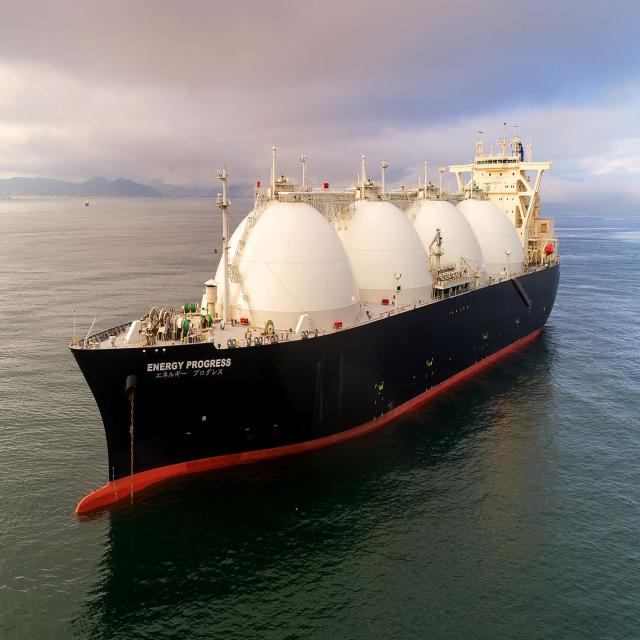boat: (59, 103, 584, 537)
